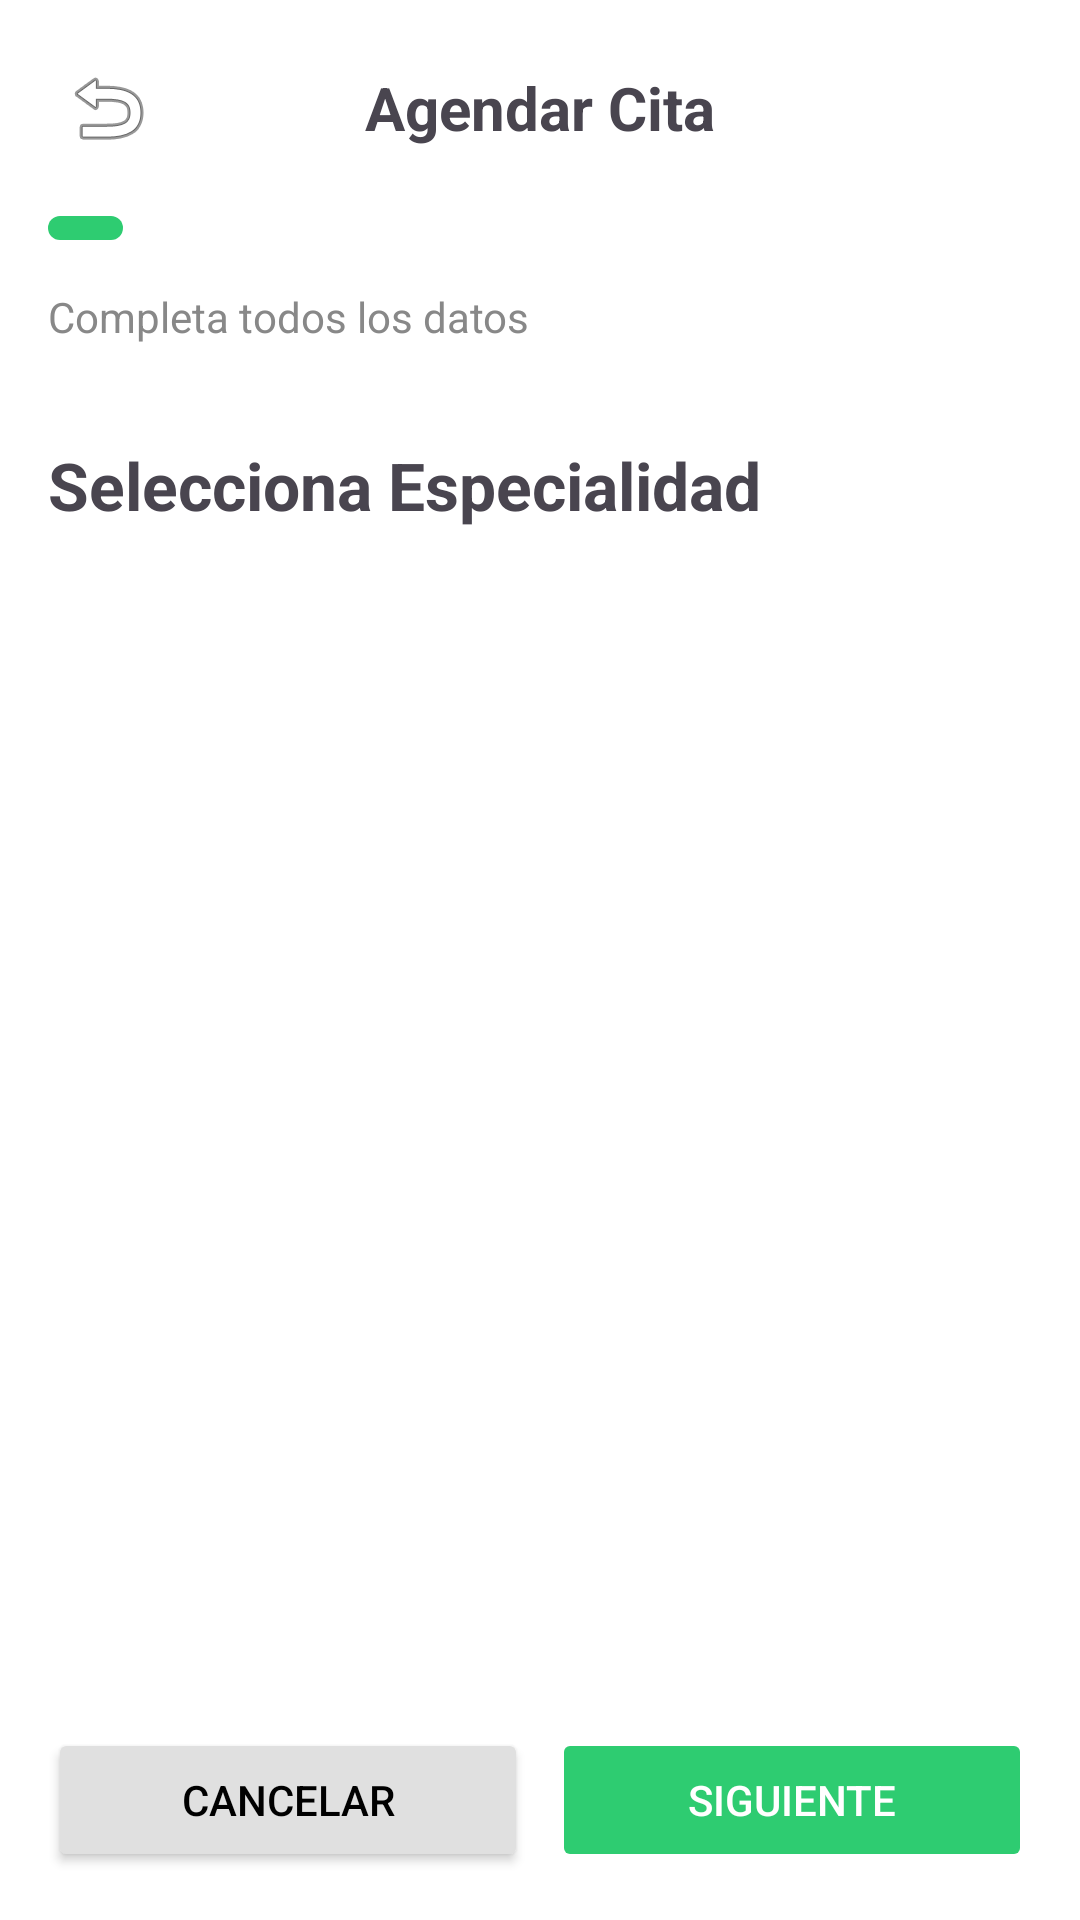

Named icons in this screenshot (1080px×1920px) and their centers, [x,y]:
Atrás: [109,108]
